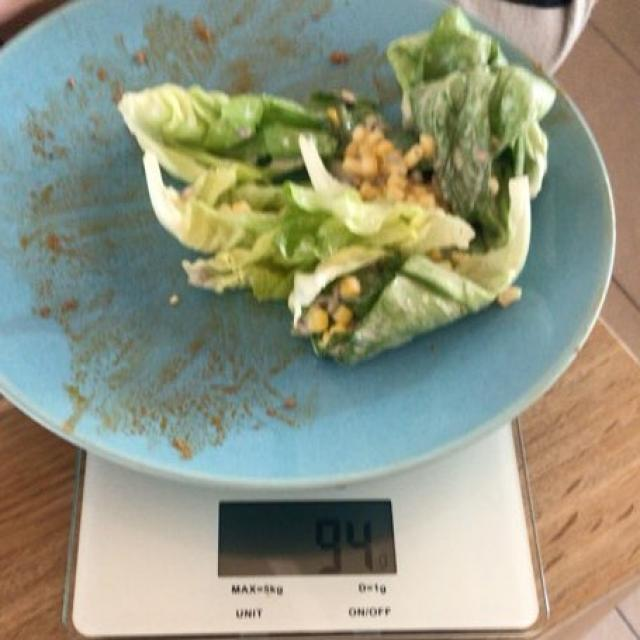corn: (282, 102, 442, 349)
salad-leaf-salad-green: (134, 22, 545, 354)
